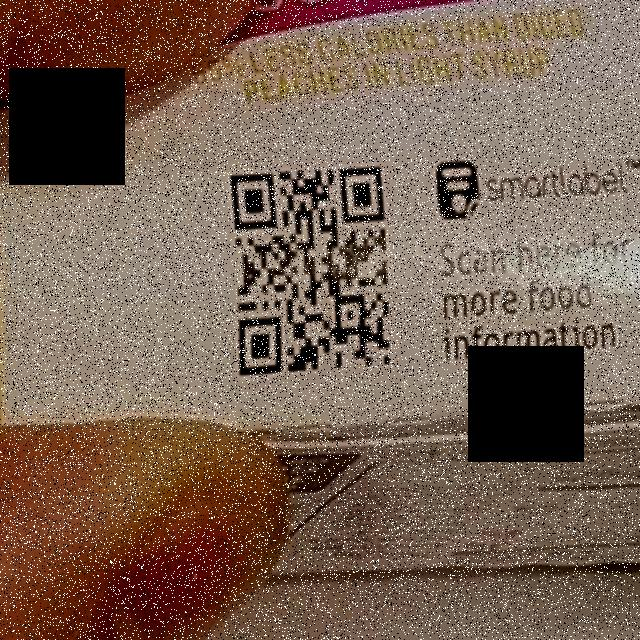QR_CODE: (215, 145, 405, 385)
